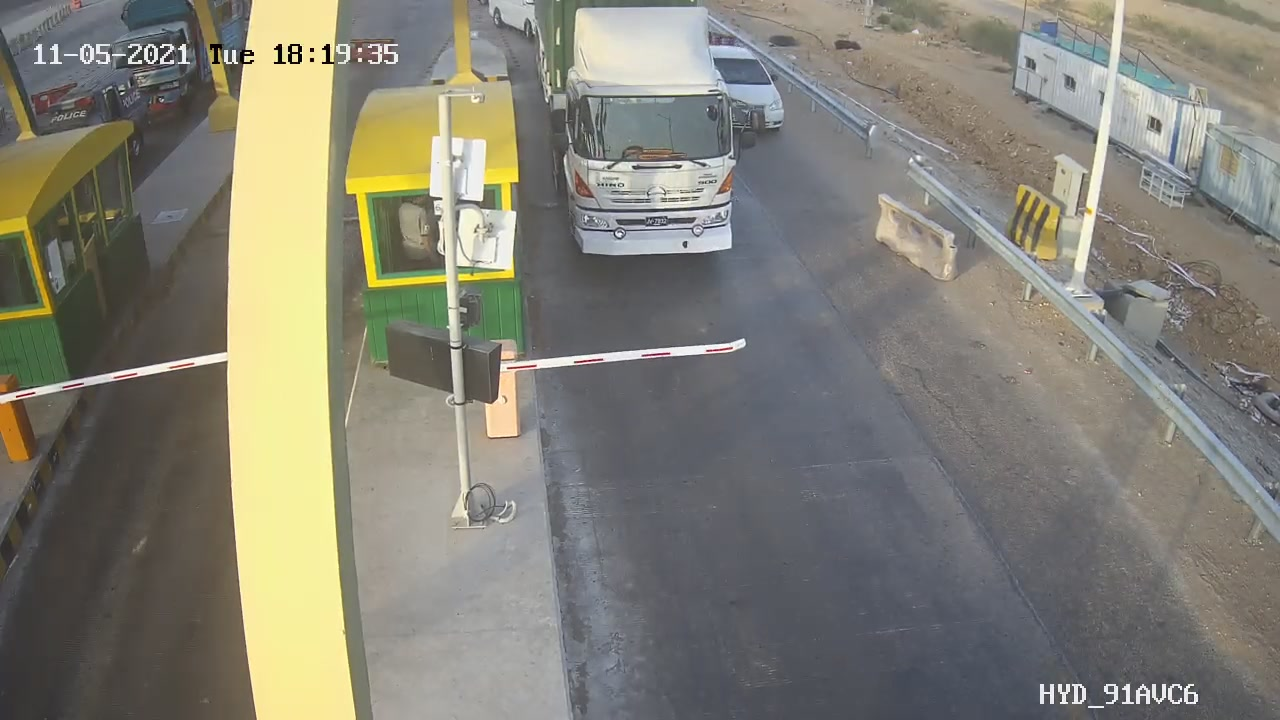F6: (520, 1, 759, 266)
